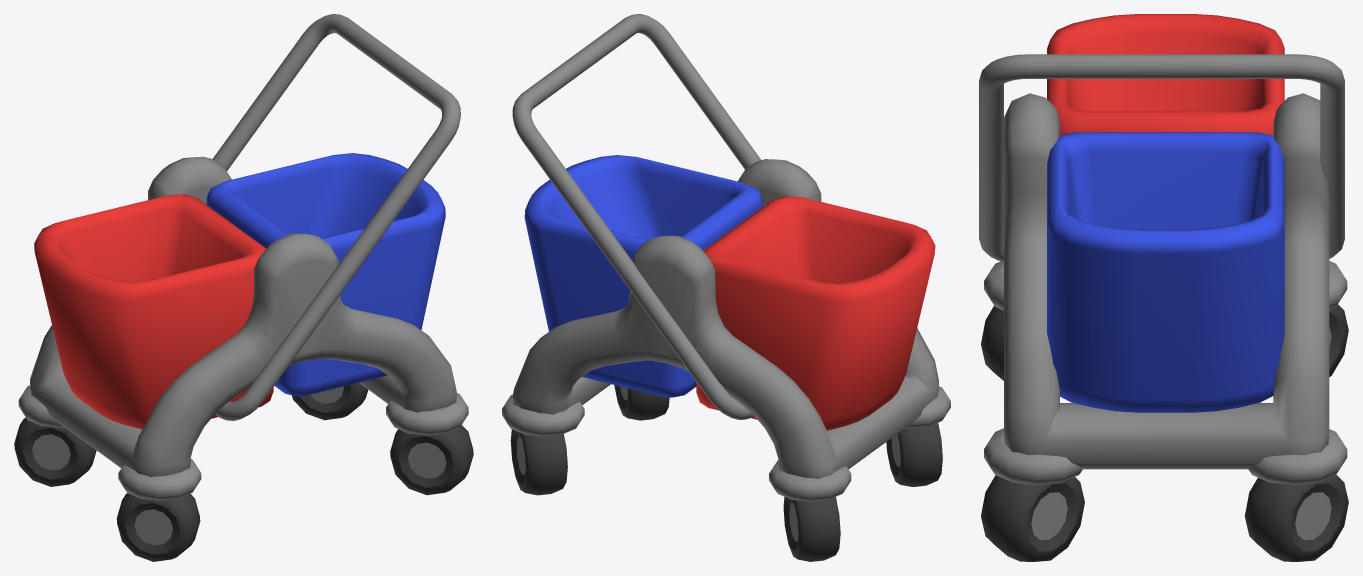
File: Cleaner.fbx
3 renders of one model, left to right at view 1: azimuth 30°, elevation 25°; view 2: azimuth 150°, elevation 25°; view 3: azimuth 270°, elevation 25°, orthographic. The views are drawn at different scales.
Parts seen in each view (by area): view 1: Cleaner; view 2: Cleaner; view 3: Cleaner.
Boxes of the visible parts, x1,y1,x2,y2 form: Cleaner: (14,14,473,561); Cleaner: (502,14,950,561); Cleaner: (979,14,1348,561).
Size of the model in its own units: 142 by 146 by 96.14.
